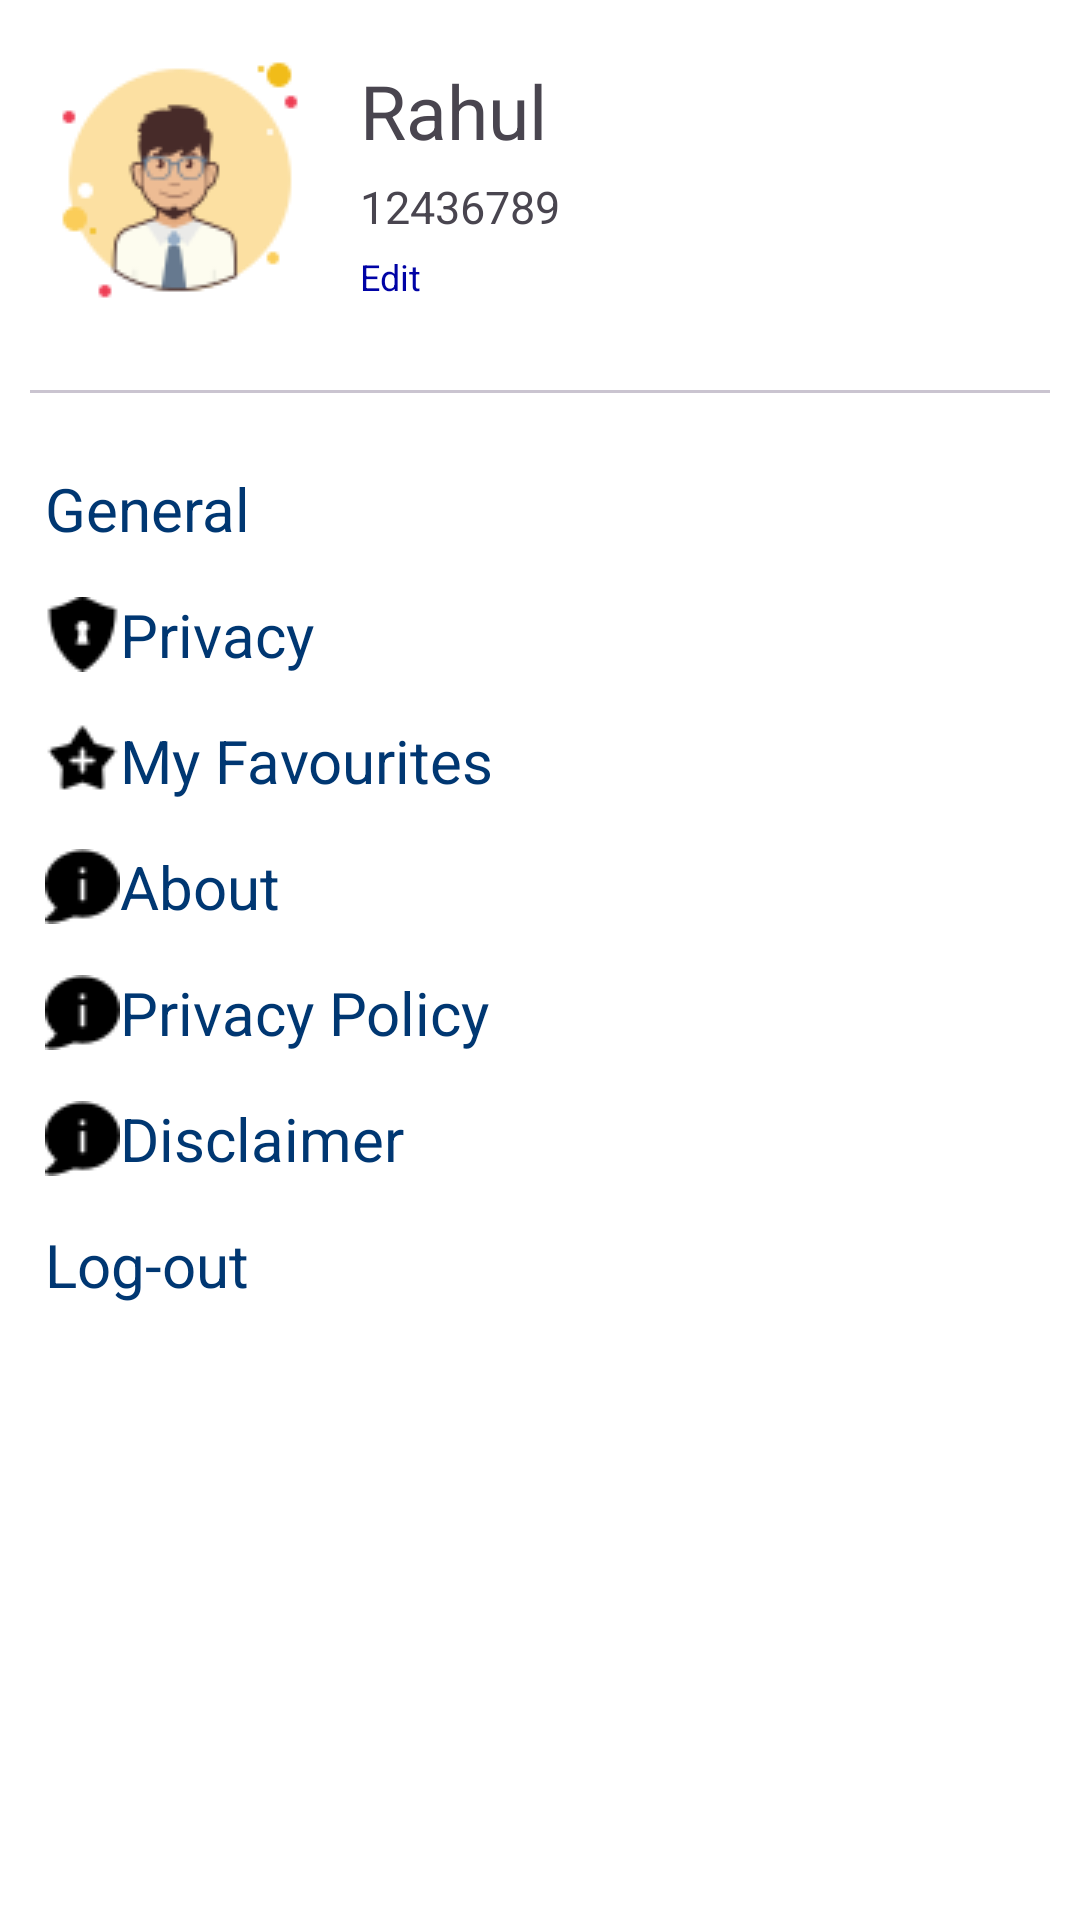

Named icons in this screenshot (1080*1920) and their bounding boxes, (x1, y1, x2, y2):
profileimg: (62, 62, 298, 298)
